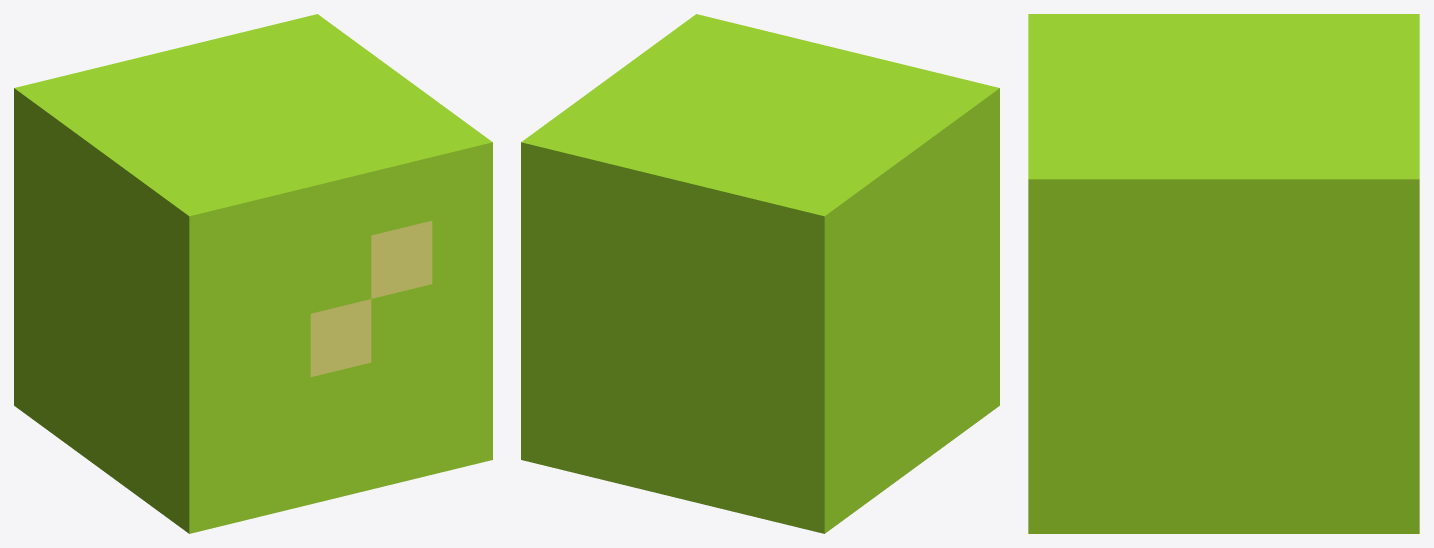
Rendered from blob_a_idle_0.obj.
3 views of the same model, side by side, from view 1: azimuth 30°, elevation 25°; view 2: azimuth 150°, elevation 25°; view 3: azimuth 270°, elevation 25° (orthographic). The views are drawn at different scales.
Bounding box in the file's own units: 0.5 × 0.5 × 0.5.
Materials: 1 (1 with a texture image).
